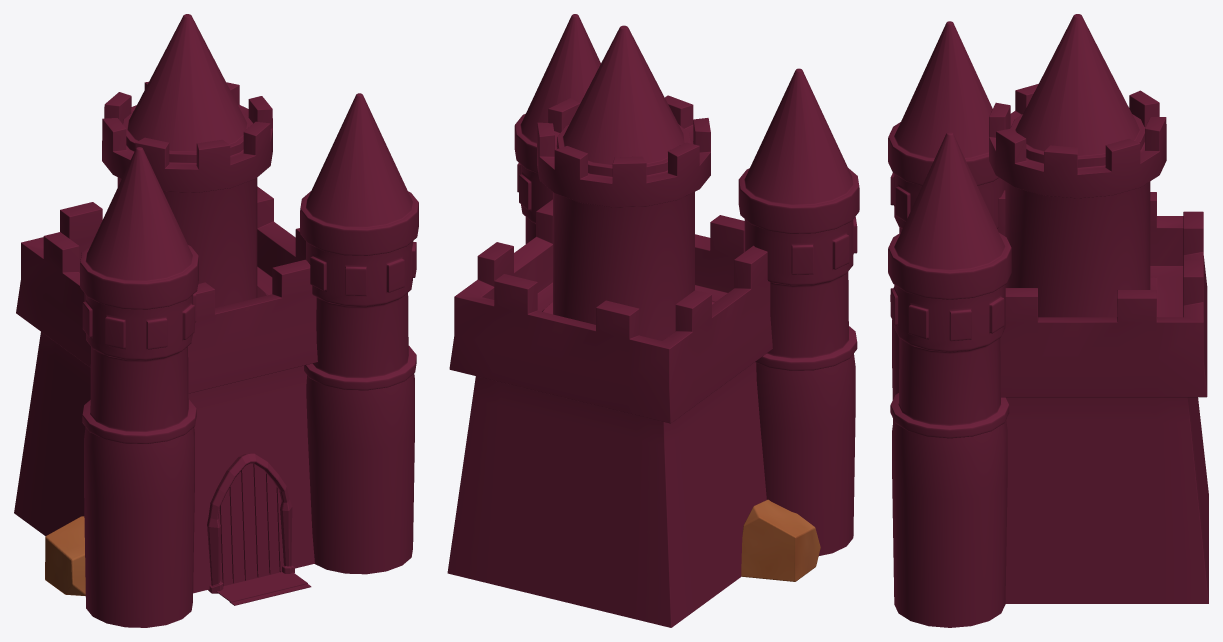
File: Castelo.fbx
3 views of the same model, side by side, from view 1: azimuth 30°, elevation 25°; view 2: azimuth 150°, elevation 25°; view 3: azimuth 270°, elevation 25° (orthographic). The views are drawn at different scales.
Visible parts, largest first — view 1: Cylinder.008, Cube.012, Plane.015, Plane.016, Cube.013, Cube.014; view 2: Cube.012, Cylinder.008, Cube.013; view 3: Cube.012, Cylinder.008.
Boxes of the visible parts, x1,y1,x2,y2 form: Cylinder.008: [80, 93, 418, 627]; Cube.012: [14, 14, 317, 593]; Plane.015: [218, 463, 283, 586]; Plane.016: [207, 453, 294, 593]; Cube.013: [45, 516, 85, 595]; Cube.014: [216, 572, 311, 605]; Cube.012: [447, 25, 772, 627]; Cylinder.008: [514, 14, 859, 555]; Cube.013: [741, 499, 820, 581]; Cube.012: [989, 14, 1208, 603]; Cylinder.008: [888, 21, 1011, 627].
Size of the model in its own units: 6024 by 9257 by 5012.
